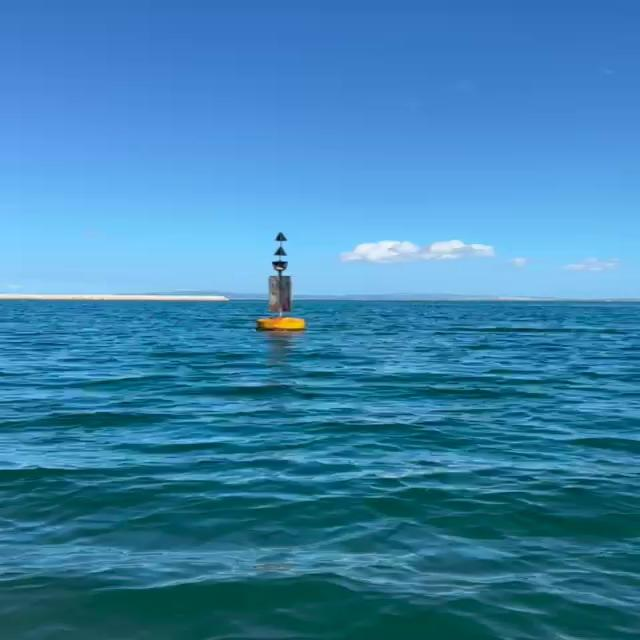marque: (255, 230, 310, 331)
